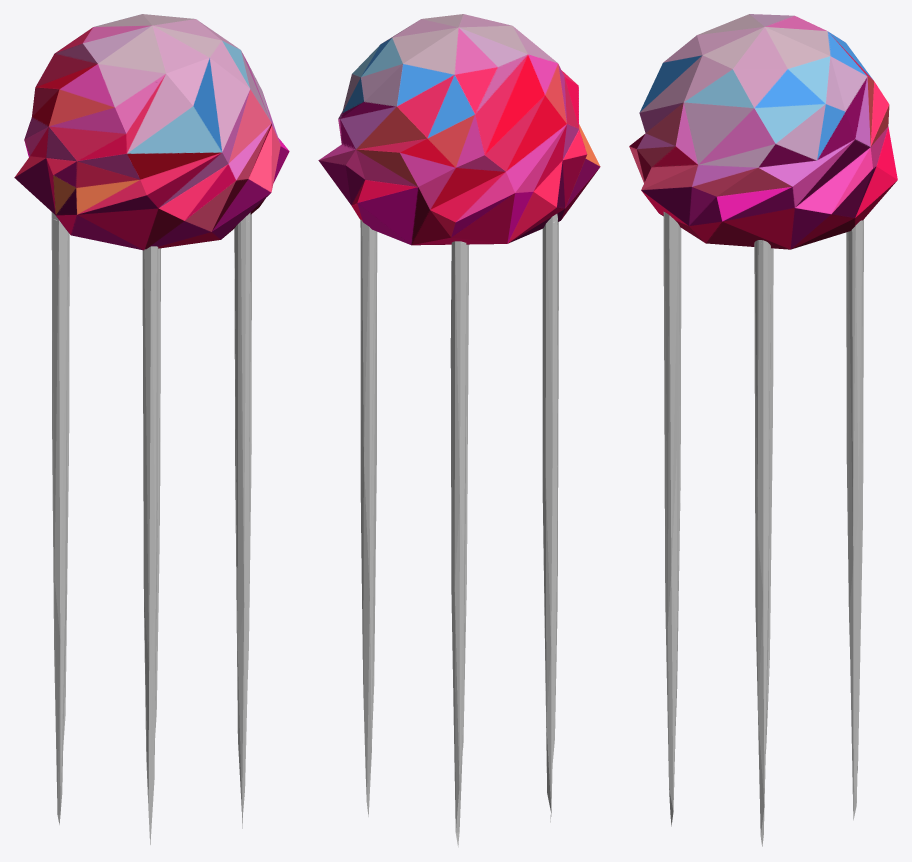
File: jellyfish1.fbx
The picture shows the model from 3 angles, left to right: view 1: azimuth 30°, elevation 25°; view 2: azimuth 150°, elevation 25°; view 3: azimuth 270°, elevation 25°; orthographic projection.
Visible parts, largest first — view 1: Group49291, Group31788; view 2: Group49291, Group31788; view 3: Group49291, Group31788.
Part boxes in pixels (left/top/right/bottom): Group49291: left=14, top=14, right=289, bottom=250; Group31788: left=51, top=212, right=251, bottom=844; Group49291: left=318, top=14, right=600, bottom=245; Group31788: left=360, top=214, right=558, bottom=847; Group49291: left=629, top=14, right=897, bottom=249; Group31788: left=663, top=211, right=863, bottom=846.
Size of the model in its own units: 308 by 980 by 307.
1 material, 1 textured.
